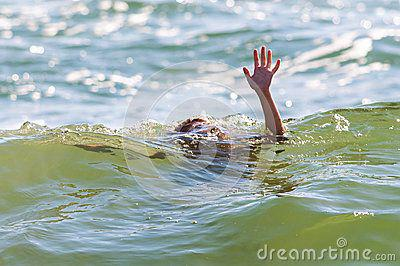drowning: (68, 18, 305, 175)
